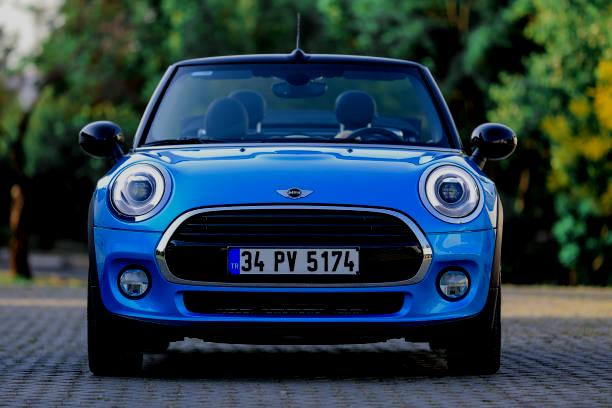mini: (270, 182, 321, 211)
